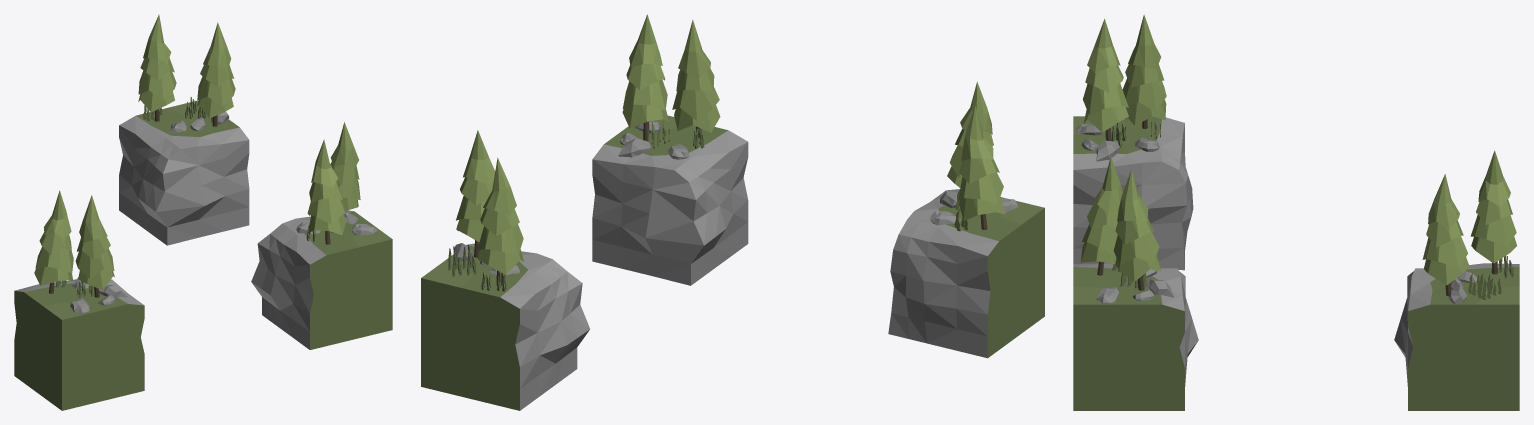
File: Three_Pillars.dae
3 views of the same model, side by side, from view 1: azimuth 30°, elevation 25°; view 2: azimuth 150°, elevation 25°; view 3: azimuth 270°, elevation 25° (orthographic). The views are drawn at different scales.
Parts seen in each view (by area): view 1: Three_Pillars; view 2: Three_Pillars; view 3: Three_Pillars.
Boxes of the visible parts, x1,y1,x2,y2 form: Three_Pillars: (14, 14, 392, 410); Three_Pillars: (421, 14, 1044, 410); Three_Pillars: (1073, 14, 1519, 410).
Bounding box in the file's own units: 2 × 2 × 1.14.
